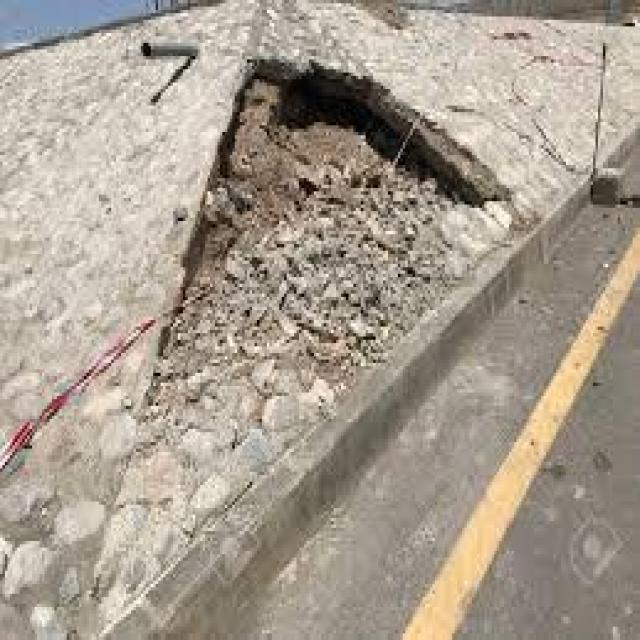bump: (89, 402, 362, 640), (331, 268, 486, 456)
hole: (221, 48, 498, 350)
